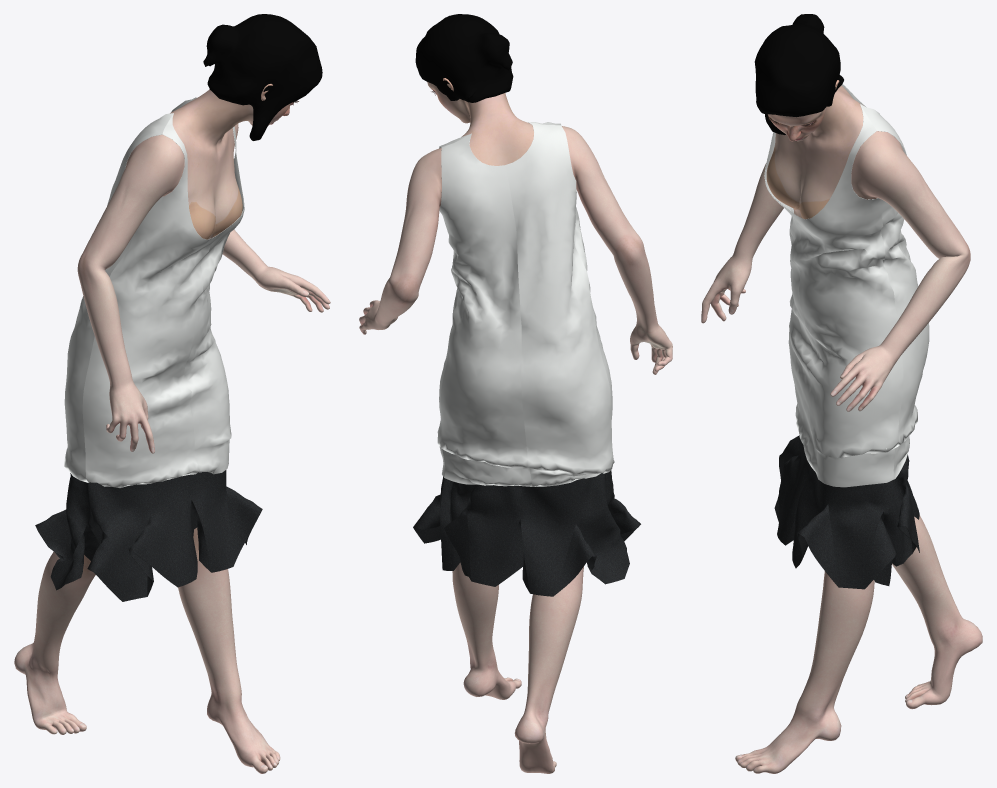
Rendered from Dynamic_2.obj.
The picture shows the model from 3 angles, left to right: view 1: azimuth 30°, elevation 25°; view 2: azimuth 150°, elevation 25°; view 3: azimuth 270°, elevation 25°; orthographic projection. The views are drawn at different scales.
Size of the model in its own units: 685 by 1739 by 590.
